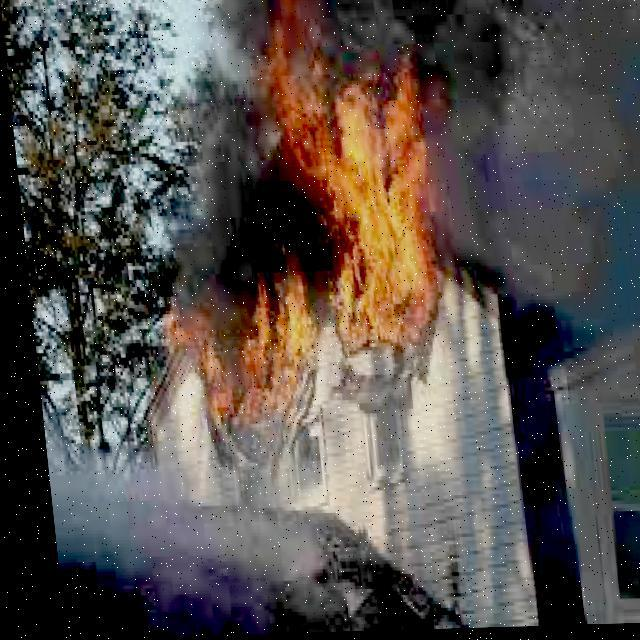Fire: (258, 14, 461, 364), (143, 235, 319, 428)
